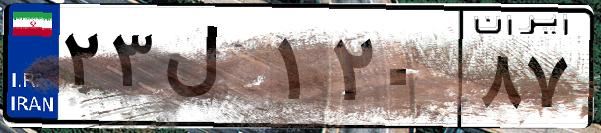0: (385, 28, 445, 110)
1: (270, 28, 330, 110)
2: (330, 28, 385, 110), (57, 26, 110, 100)
3: (110, 28, 158, 98)
7: (525, 38, 570, 115)
8: (475, 38, 525, 113)
ل: (158, 20, 270, 120)
